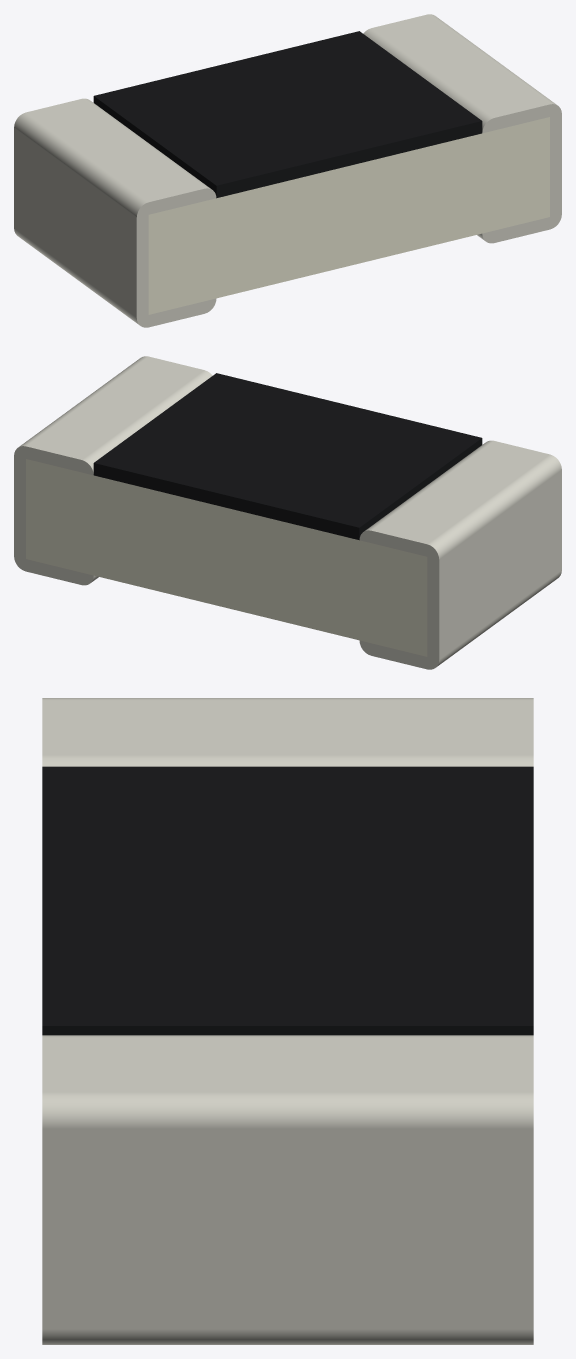
Rendered from Resistor_SMD__R_0603_1608Metric.glb.
The picture shows the model from 3 angles, top to bottom: view 1: azimuth 30°, elevation 25°; view 2: azimuth 150°, elevation 25°; view 3: azimuth 270°, elevation 25°; orthographic projection. The views are drawn at different scales.
Visible parts, largest first — view 1: R_0603_1608Metric; view 2: R_0603_1608Metric; view 3: R_0603_1608Metric.
Part boxes in pixels (x1,y1,x2,y2): R_0603_1608Metric: (14,14,561,327); R_0603_1608Metric: (14,356,561,669); R_0603_1608Metric: (42,698,533,1344).
Size of the model in its own units: 0.0016 by 0.00045 by 0.0008.
